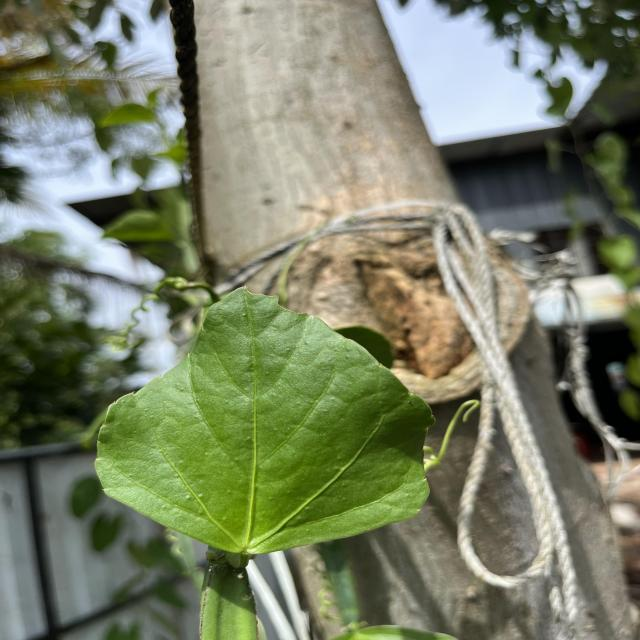Cissus quadrangularis: (92, 281, 440, 560)
